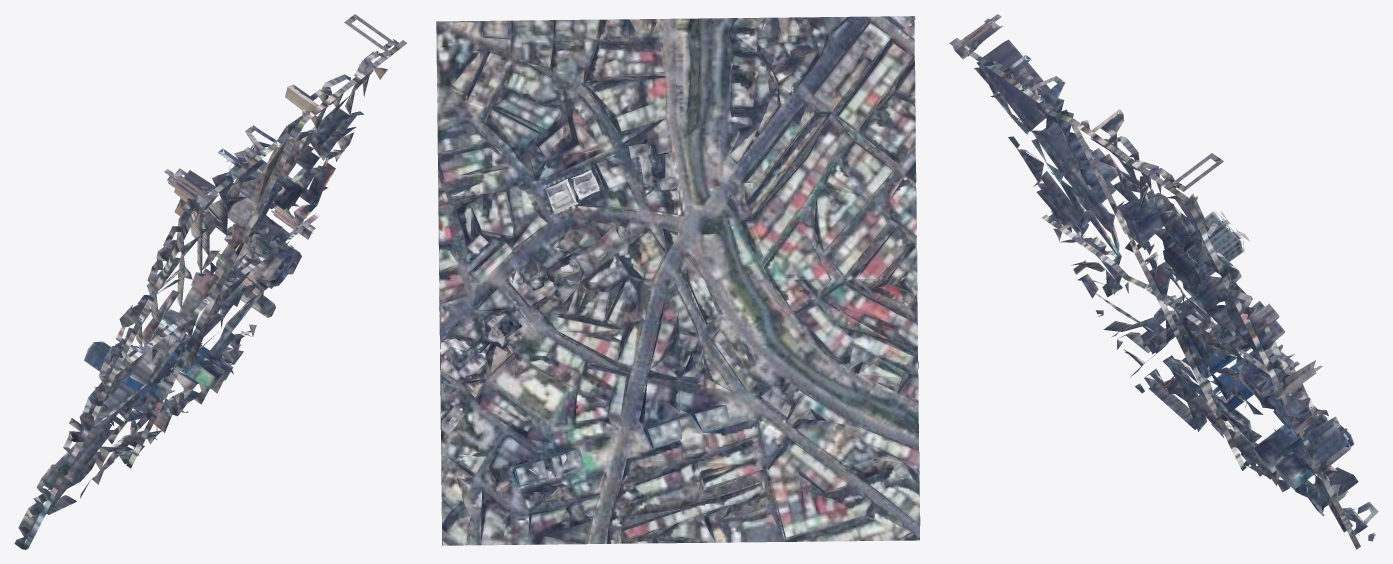
3 views of the same model, side by side, from view 1: azimuth 30°, elevation 25°; view 2: azimuth 150°, elevation 25°; view 3: azimuth 270°, elevation 25° (orthographic). The views are drawn at different scales.
Size of the model in its own units: 618 by 588 by 545.
2 materials, 2 textured.
